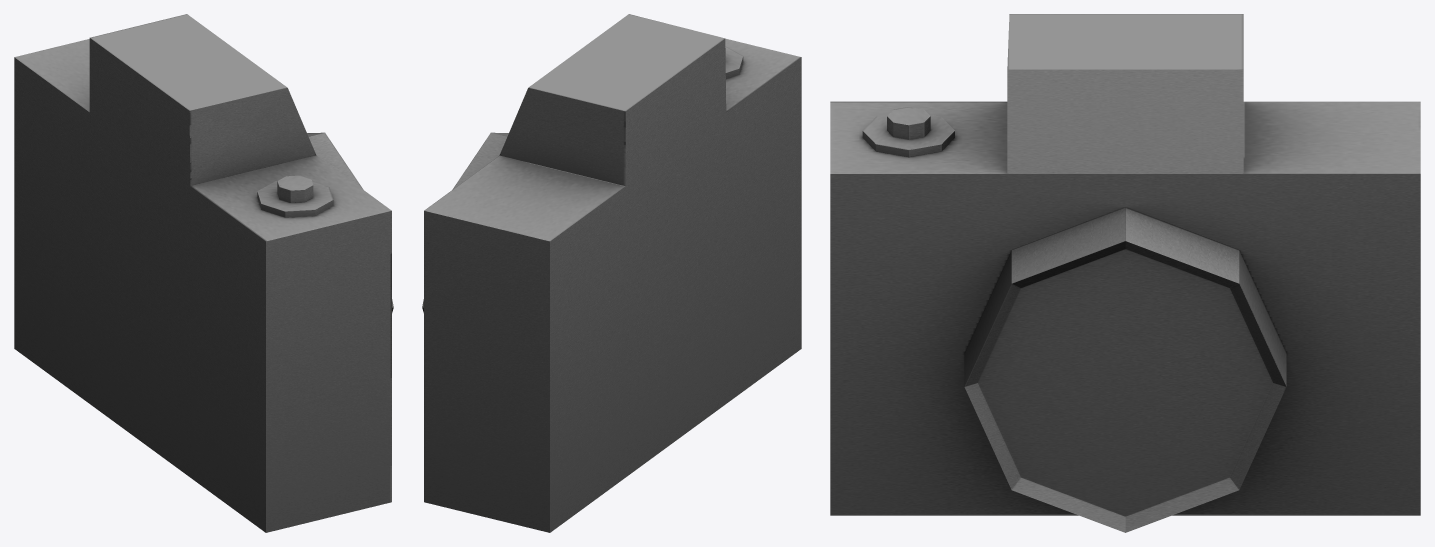
File: Camera.obj
3 views of the same model, side by side, from view 1: azimuth 30°, elevation 25°; view 2: azimuth 150°, elevation 25°; view 3: azimuth 270°, elevation 25° (orthographic). The views are drawn at different scales.
Visible parts, largest first — view 1: Camera; view 2: Camera; view 3: Camera.
Part boxes in pixels (bbox=[...]): Camera: bbox=[14, 14, 393, 532]; Camera: bbox=[422, 14, 801, 532]; Camera: bbox=[830, 14, 1420, 532].
Bounding box in the file's own units: 1.34 × 2.54 × 3.16.
